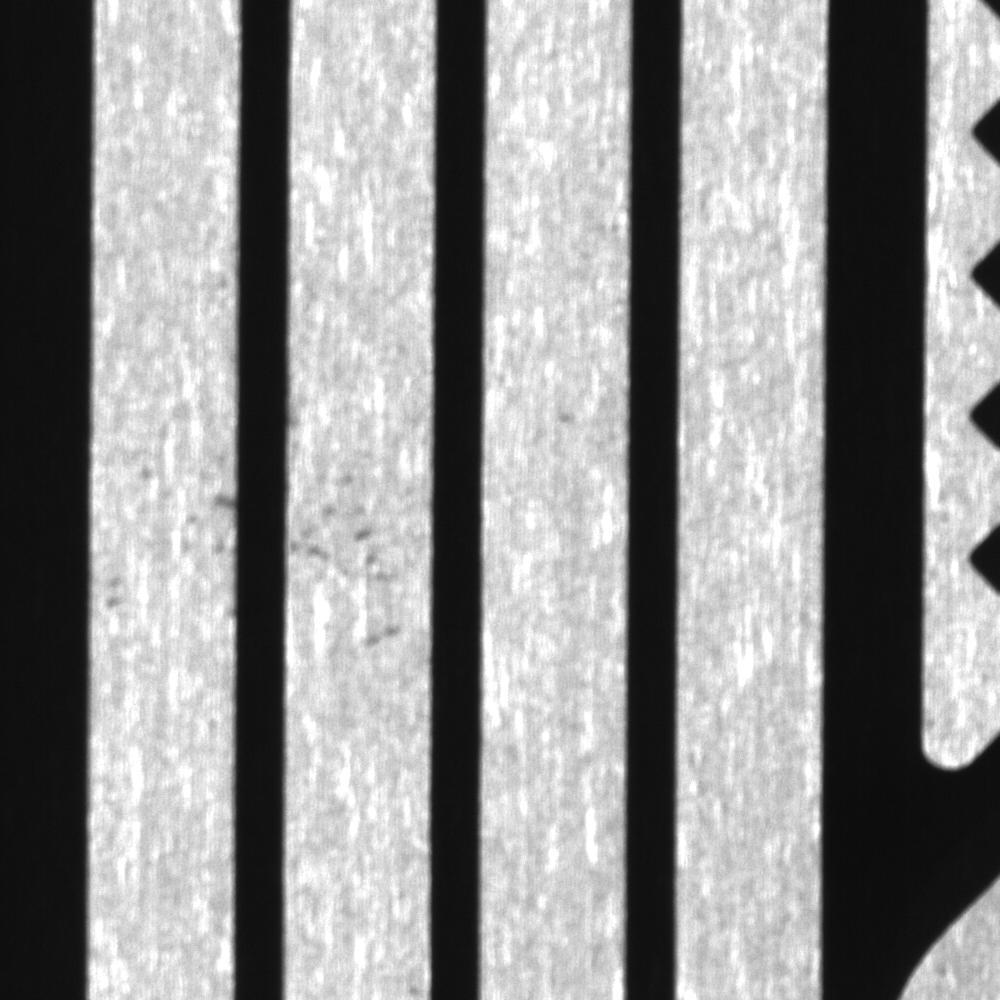Etching: (96, 424, 237, 646), (290, 446, 413, 656)
